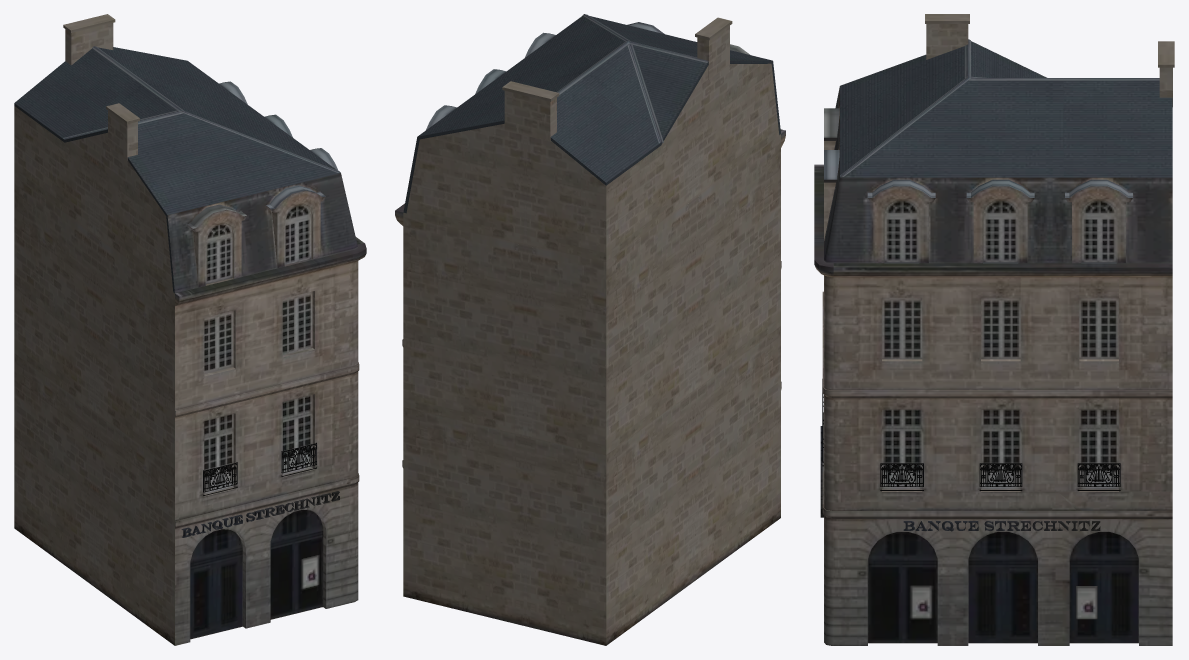
File: corner-b.glb
3 views of the same model, side by side, from view 1: azimuth 30°, elevation 25°; view 2: azimuth 150°, elevation 25°; view 3: azimuth 270°, elevation 25° (orthographic). The views are drawn at different scales.
Parts seen in each view (by area): view 1: Strechnitz_1_0; view 2: Strechnitz_1_0; view 3: Strechnitz_1_0.
Boxes of the visible parts, box(x1,y1,x2,y2) form: Strechnitz_1_0: box(14, 14, 366, 645); Strechnitz_1_0: box(395, 14, 785, 645); Strechnitz_1_0: box(814, 14, 1174, 645).
Bounding box in the file's own units: 7.72 × 18.38 × 11.27.
1 material, 1 textured.
